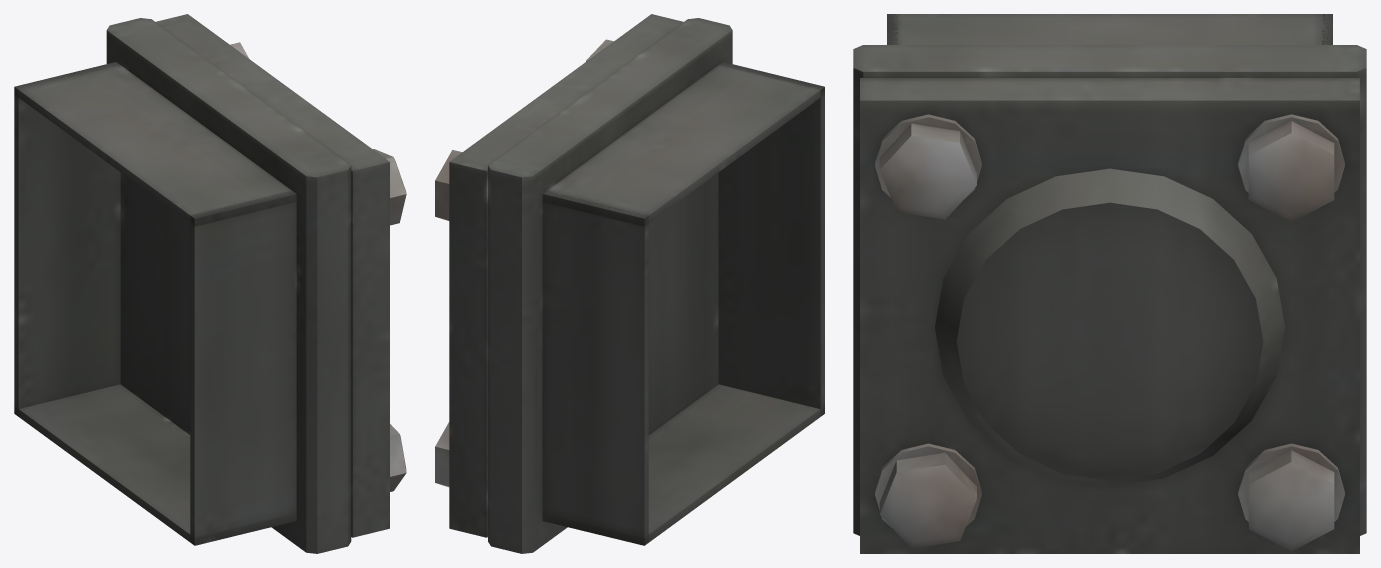
The model's file is armRoot-v1.glb.
3 renders of one model, left to right at view 1: azimuth 30°, elevation 25°; view 2: azimuth 150°, elevation 25°; view 3: azimuth 270°, elevation 25°, orthographic. The views are drawn at different scales.
Visible parts, largest first — view 1: armRoot-v1; view 2: armRoot-v1; view 3: armRoot-v1.
Part boxes in pixels (x1,y1,x2,y2): armRoot-v1: (14, 14, 406, 553); armRoot-v1: (435, 14, 824, 553); armRoot-v1: (853, 14, 1366, 553).
Size of the model in its own units: 0.18 by 0.3048 by 0.3048.
1 material, 1 textured.
